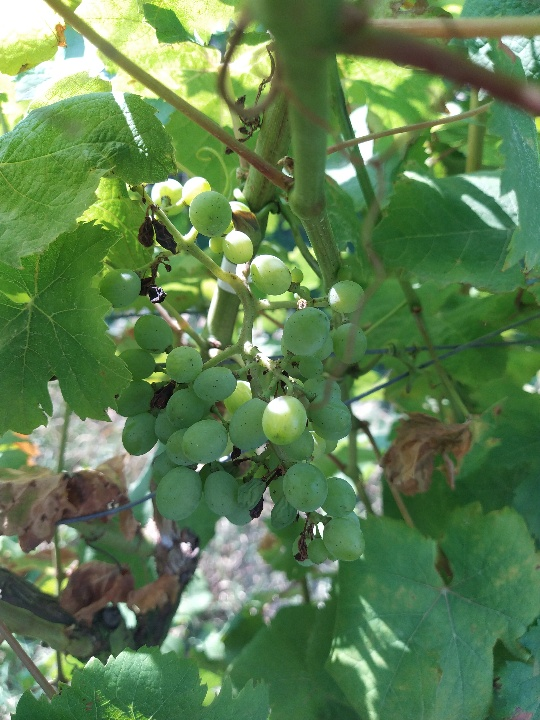grape: (98, 177, 371, 574)
